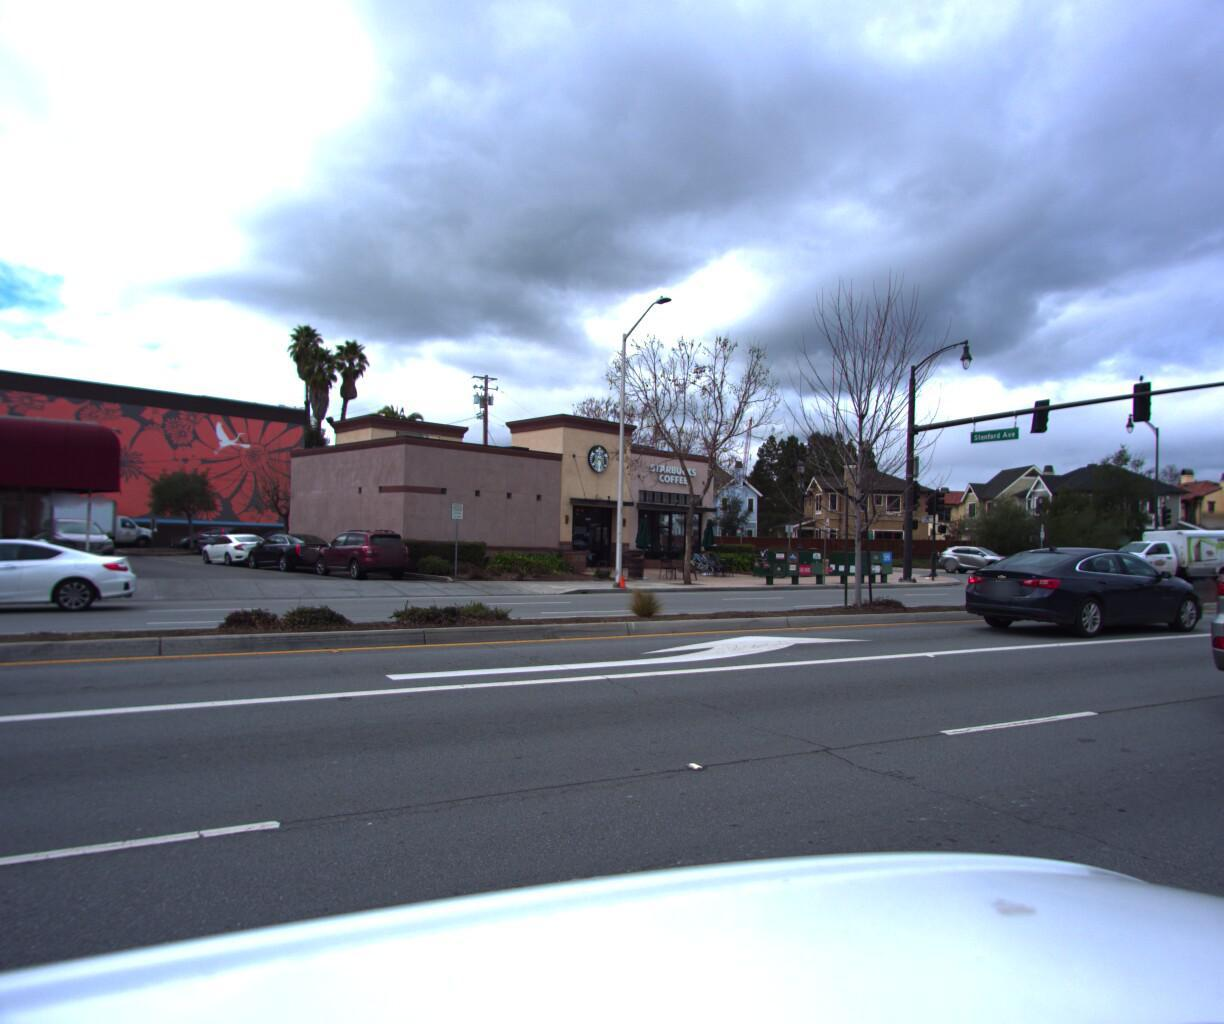car: (948, 539, 1208, 637), (0, 526, 139, 615), (1180, 493, 1224, 769), (308, 525, 416, 575), (245, 532, 341, 570), (932, 542, 1025, 573)
truck: (1066, 521, 1224, 585)
